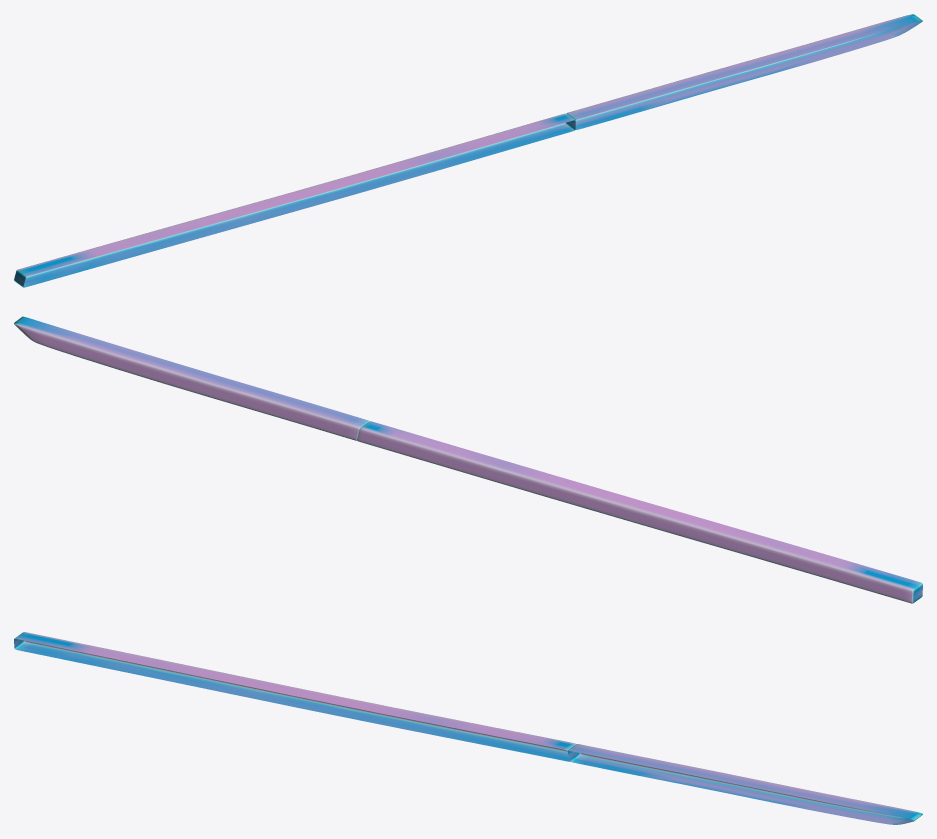
File: unsorted_02.glb
3 views of the same model, one above another, from view 1: azimuth 30°, elevation 25°; view 2: azimuth 150°, elevation 25°; view 3: azimuth 330°, elevation 25° (orthographic).
Visible parts, largest first — view 1: chrome_4; view 2: chrome_4; view 3: chrome_4.
Boxes of the visible parts, x1,y1,x2,y2 form: chrome_4: (14,14,922,287); chrome_4: (14,316,922,603); chrome_4: (14,632,922,824).
Bounding box in the file's own units: 1.61 × 0.0934 × 0.0502.
